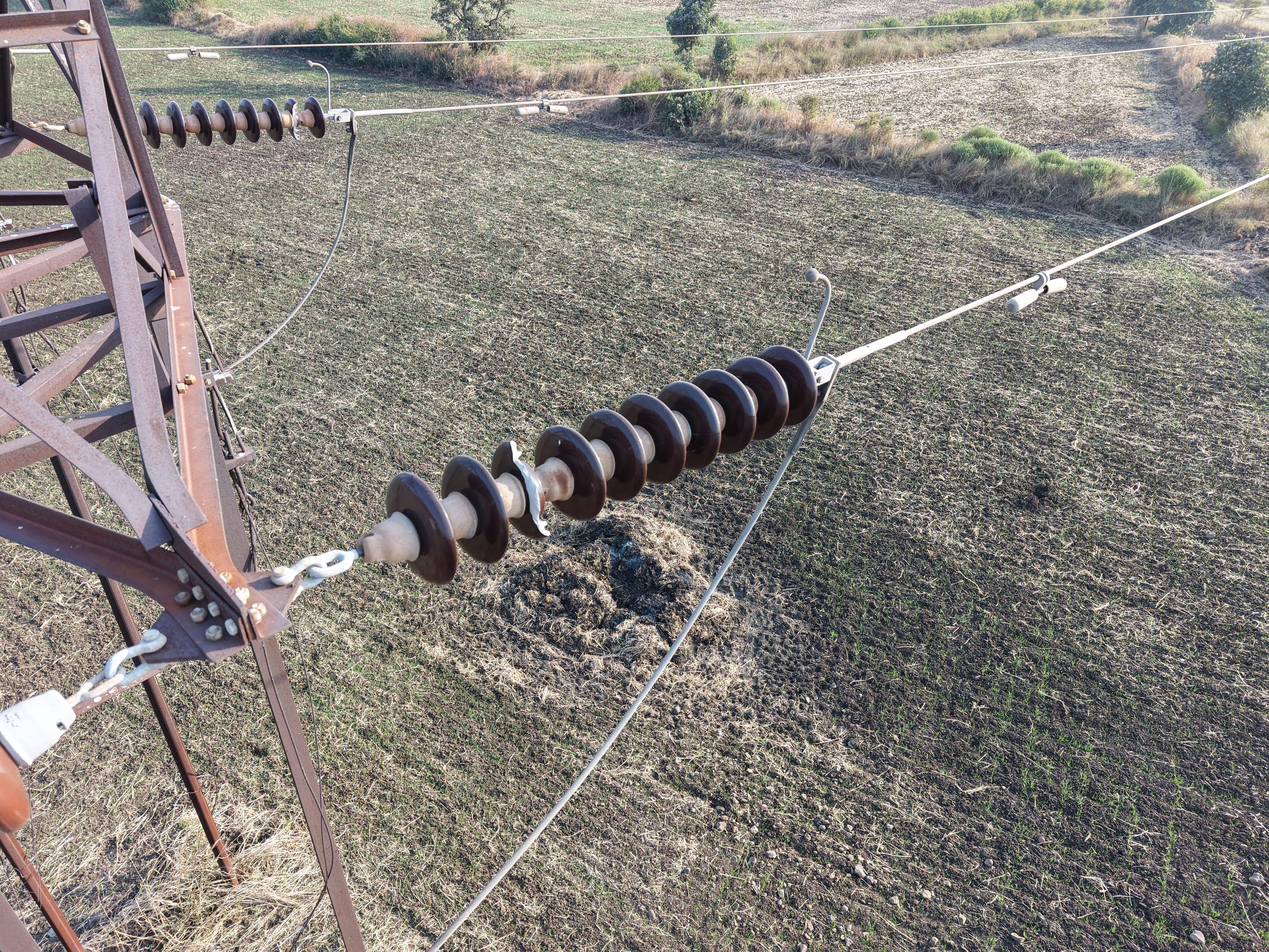broken_insulator: (486, 435, 558, 542), (279, 94, 308, 144)
